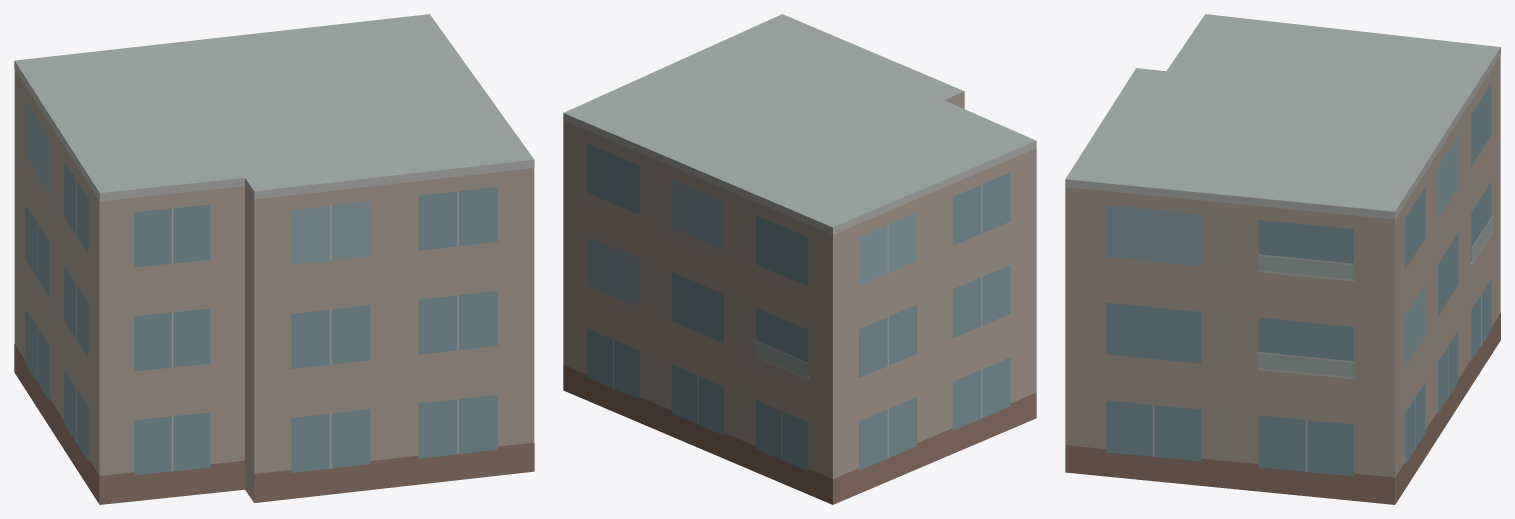
File: survey-upis-32713454.glb
3 renders of one model, left to right at view 1: azimuth 30°, elevation 25°; view 2: azimuth 150°, elevation 25°; view 3: azimuth 270°, elevation 25°, orthographic. The views are drawn at different scales.
Parts seen in each view (by area): view 1: survey-upis-32713454.tmp; view 2: survey-upis-32713454.tmp; view 3: survey-upis-32713454.tmp.
Boxes of the visible parts, x1,y1,x2,y2 form: survey-upis-32713454.tmp: (14, 14, 534, 504); survey-upis-32713454.tmp: (563, 14, 1036, 504); survey-upis-32713454.tmp: (1065, 14, 1500, 504).
Bounding box in the file's own units: 13.25 × 9.15 × 12.33.
